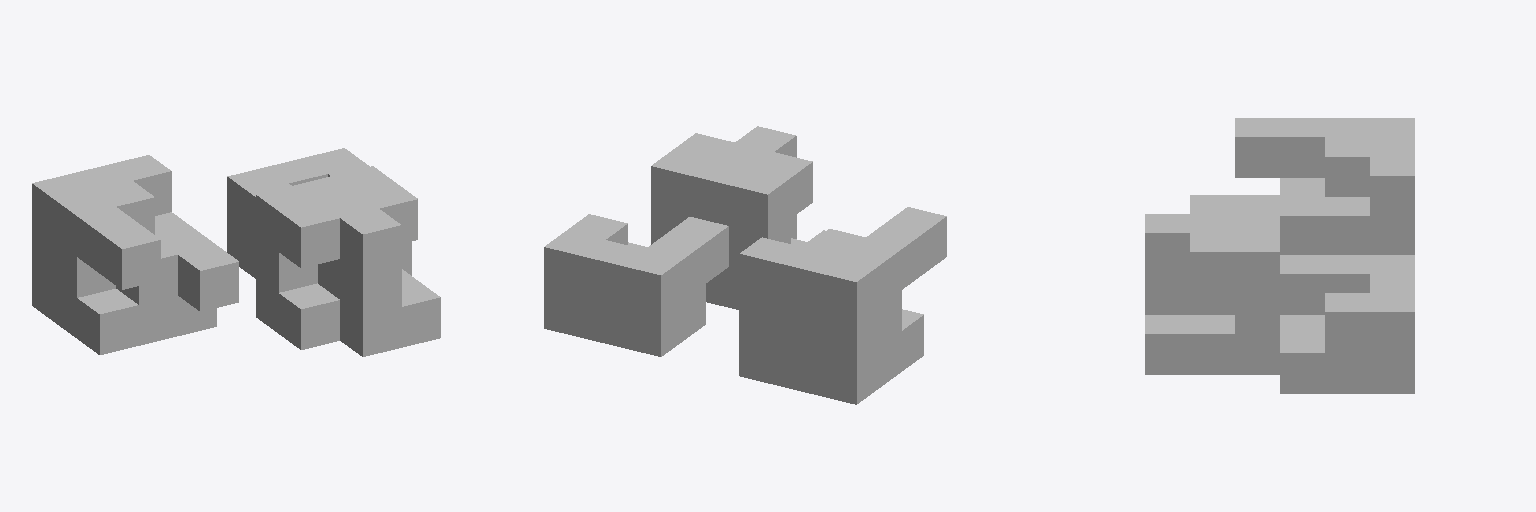
Rendered from nightBerriesWall2-0.obj.
The picture shows the model from 3 angles: view 1: azimuth 30°, elevation 25°; view 2: azimuth 150°, elevation 25°; view 3: azimuth 270°, elevation 25°; orthographic projection.
Visible parts, largest first — view 1: object 1; view 2: object 1; view 3: object 1.
Part boxes in pixels (left/top/right/bottom): object 1: left=32, top=148, right=440, bottom=356; object 1: left=544, top=126, right=946, bottom=404; object 1: left=1145, top=118, right=1414, bottom=393.
Bounding box in the file's own units: 0.8 × 0.3 × 0.6.